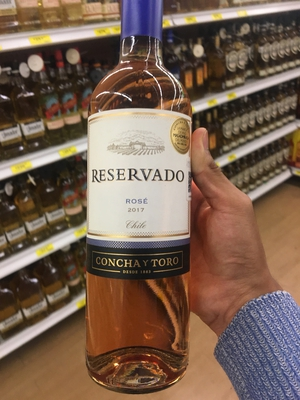reservado rose: (64, 16, 209, 400)
